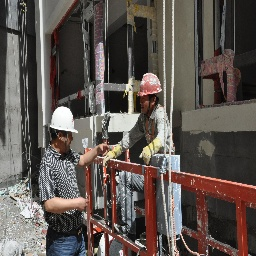helmet: (48, 105, 79, 142), (136, 71, 163, 104)
person: (37, 104, 87, 256)
